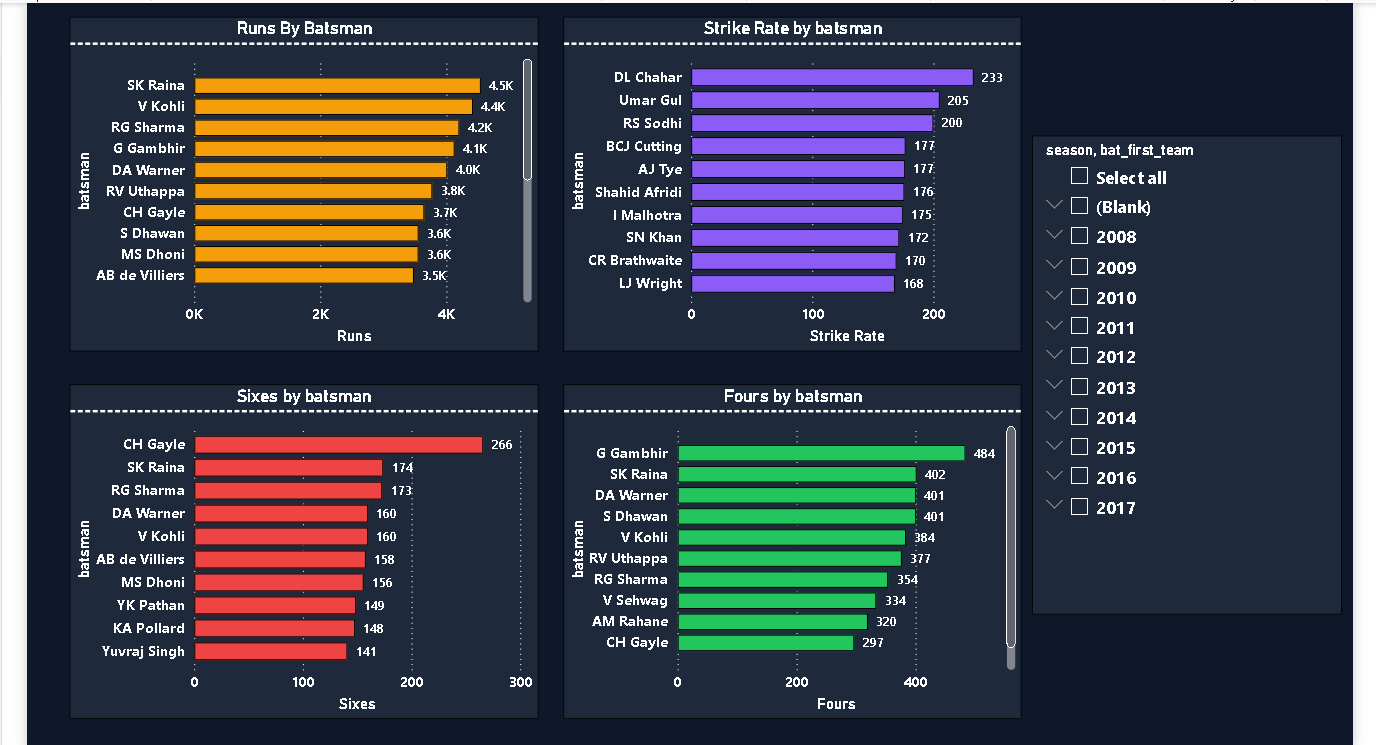

The page's visual inventory and layout, read from the dashboard file:
{"tool":"powerbi","page":{"name":"Batting Analysis","canvas":[1280,720],"ordinal":1},"visuals":[{"type":"barChart","title":"Runs By Batsman","fields":{"Category":["deliveries.batsman"],"Y":["deliveries.Runs"]},"box":[41.6,13.5,452.4,322.8],"z":0},{"type":"barChart","fields":{"Category":["deliveries.batsman"],"Y":["deliveries.Strike Rate"]},"box":[517.3,13.5,442.7,322.8],"z":1000},{"type":"barChart","fields":{"Category":["deliveries.batsman"],"Y":["deliveries.Sixes"]},"box":[41.6,368.1,452.4,322.8],"z":2000},{"type":"barChart","fields":{"Category":["deliveries.batsman"],"Y":["deliveries.Fours"]},"box":[517.3,368.1,442.7,322.8],"z":3000},{"type":"slicer","fields":{"Values":["match2.season","match2.bat_first_team"]},"box":[969.7,128.4,299.6,462.2],"z":4000}]}

Visuals, with their boxes on the page's 1280x720 design canvas (x1, y1, x2, y2). These are canvas units, not pixel positions in the 1376x745 screenshot, which may show the page scaled, cropped or inside an application window:
"Runs By Batsman" barChart: [42,14,494,336]
barChart - deliveries.batsman x deliveries.Strike Rate: [517,14,960,336]
barChart - deliveries.batsman x deliveries.Sixes: [42,368,494,691]
barChart - deliveries.batsman x deliveries.Fours: [517,368,960,691]
slicer - match2.season x match2.bat_first_team: [970,128,1269,591]
